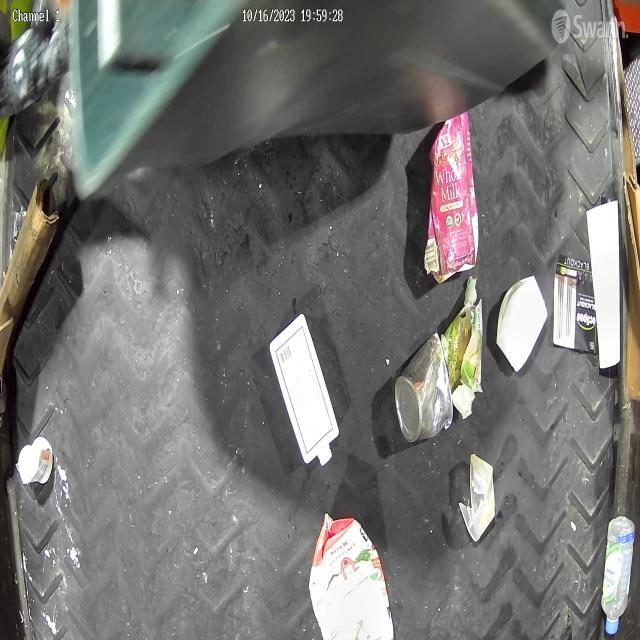can: (393, 322, 461, 452)
plastic_bottle: (602, 508, 640, 640)
